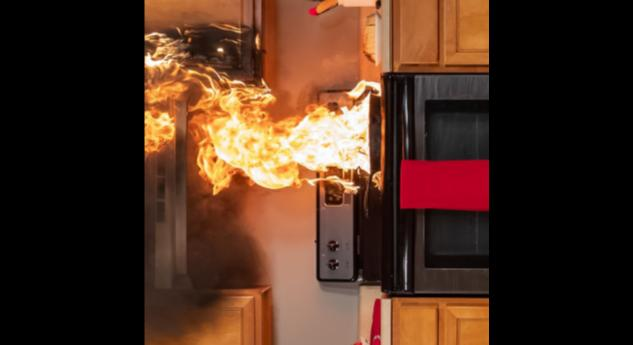fire: (150, 55, 406, 226)
